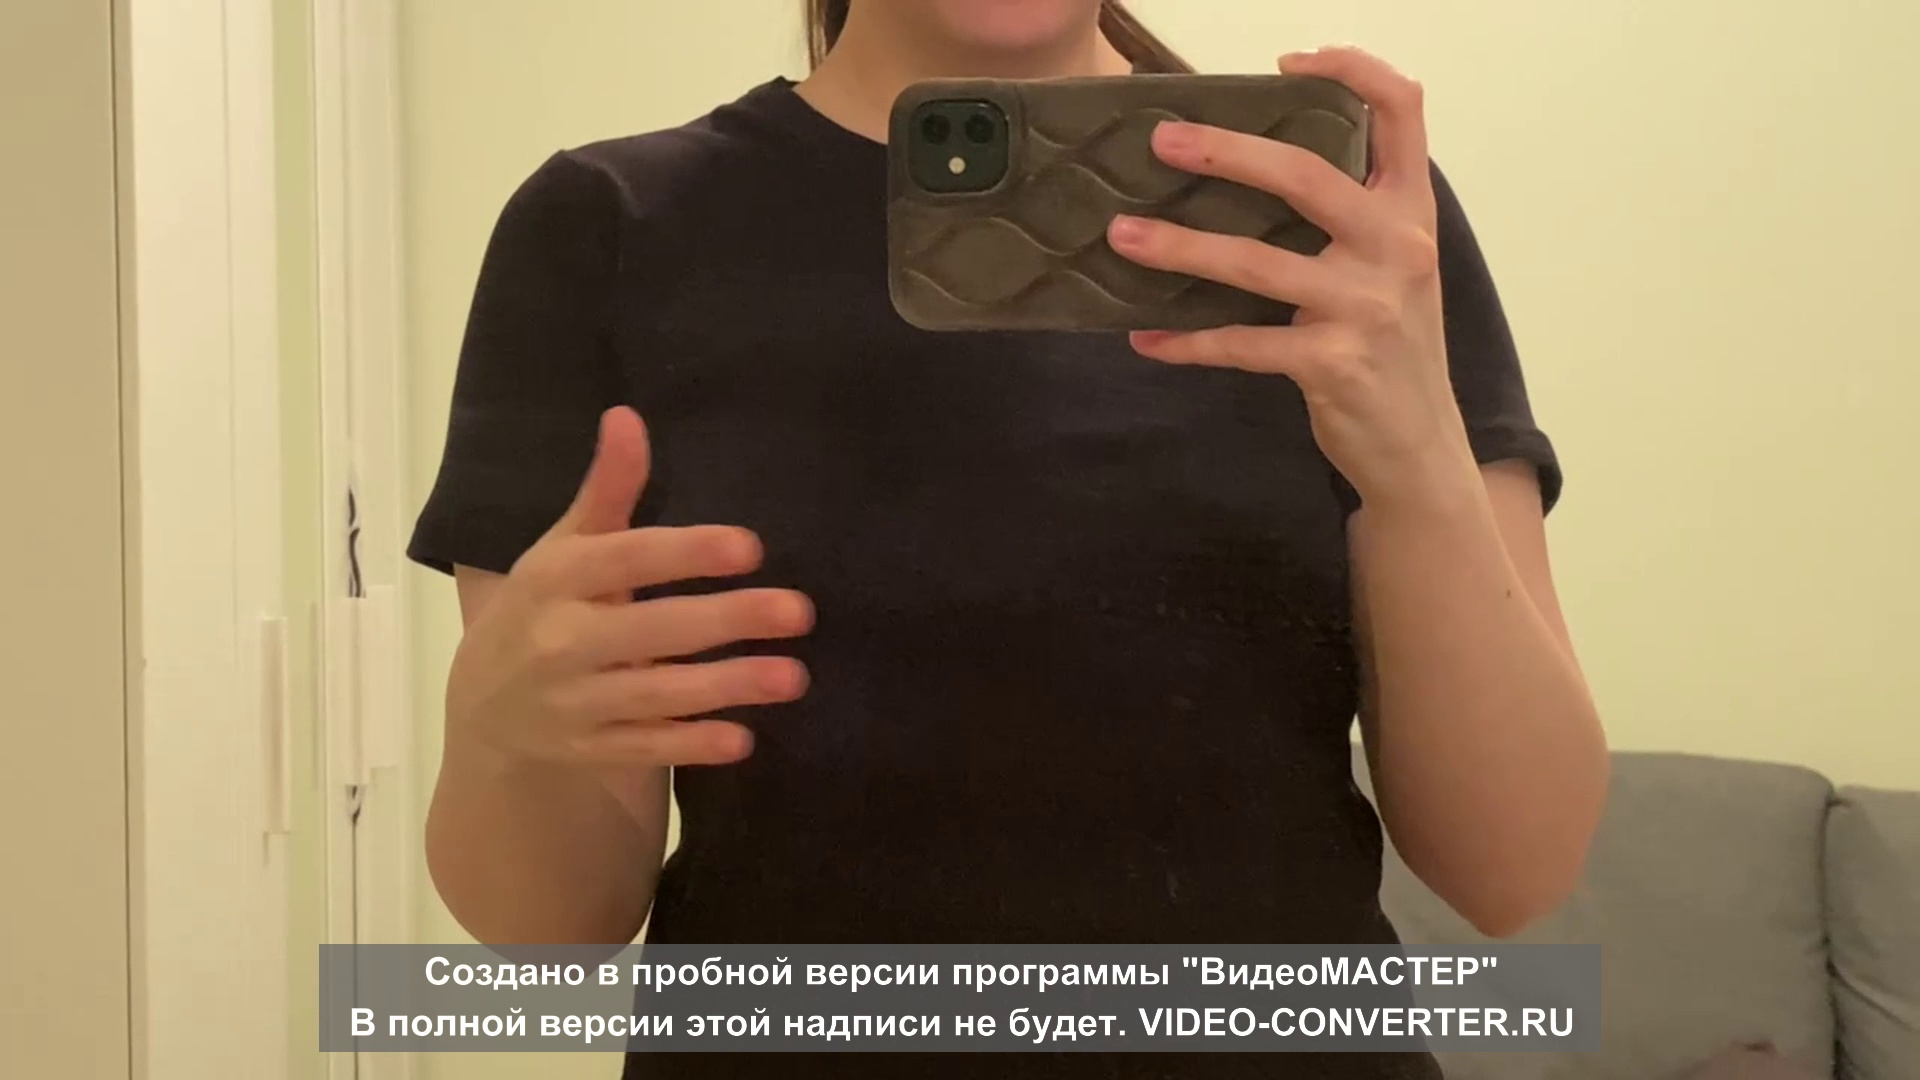Кисть: (440, 407, 818, 764)
